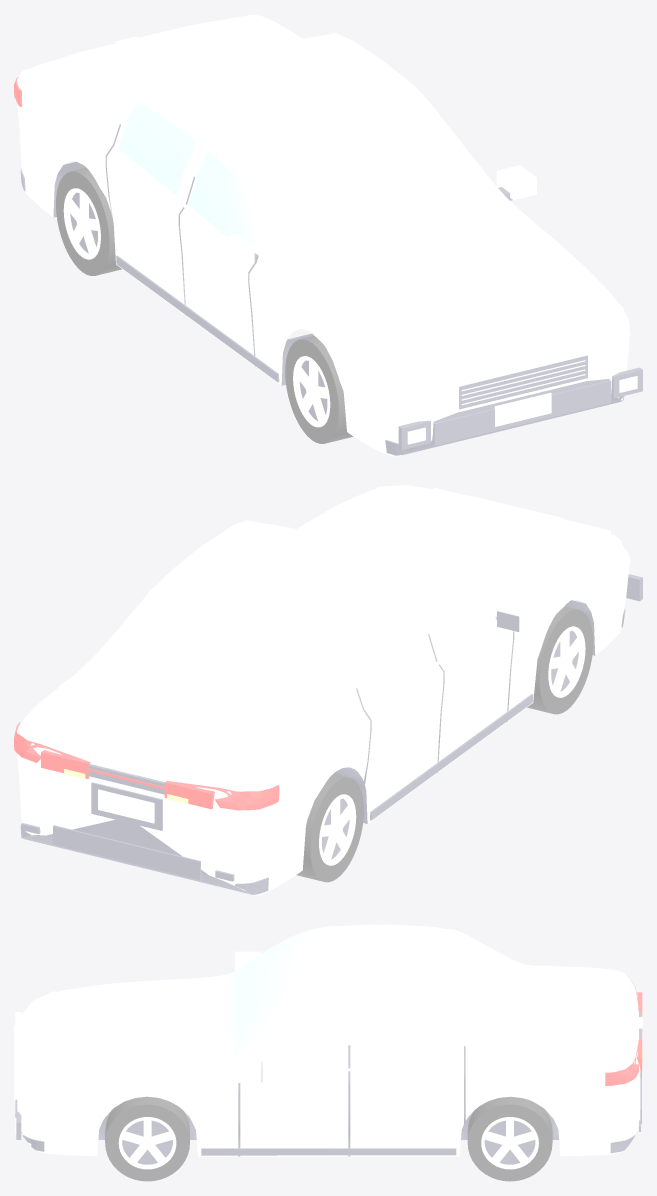
The model's file is cerato.glb.
The picture shows the model from 3 angles, top to bottom: view 1: azimuth 30°, elevation 25°; view 2: azimuth 150°, elevation 25°; view 3: azimuth 270°, elevation 25°; orthographic projection. The views are drawn at different scales.
Parts seen in each view (by area): view 1: steel-grey-paint, tinted-glass, black-trim, tyre, alloy-wheel, chrome, headlamp, number-plate, drl; view 2: steel-grey-paint, tinted-glass, black-trim, tyre, tail-lamp, alloy-wheel, number-plate, chrome; view 3: steel-grey-paint, tinted-glass, tyre, black-trim, alloy-wheel, chrome, headlamp, tail-lamp.
Boxes of the visible parts, box(x1,y1,x2,y2) form: steel-grey-paint: box(17, 14, 629, 456); tinted-glass: box(118, 100, 507, 258); black-trim: box(20, 124, 642, 455); tyre: box(56, 167, 353, 443); alloy-wheel: box(63, 188, 330, 427); chrome: box(78, 36, 591, 412); headlamp: box(367, 303, 630, 399); number-plate: box(494, 392, 551, 426); drl: box(376, 302, 622, 378); steel-grey-paint: box(17, 487, 628, 895); tinted-glass: box(86, 520, 505, 729); black-trim: box(20, 574, 642, 894); tyre: box(296, 606, 593, 882); tail-lamp: box(14, 722, 279, 810); alloy-wheel: box(319, 626, 585, 865); number-plate: box(98, 789, 154, 823); chrome: box(115, 624, 571, 834); steel-grey-paint: box(17, 924, 640, 1156); tinted-glass: box(229, 930, 530, 1072); tyre: box(105, 1096, 552, 1181); black-trim: box(15, 1011, 641, 1164); alloy-wheel: box(118, 1117, 538, 1169); chrome: box(14, 1017, 642, 1147); headlamp: box(15, 992, 57, 1105); tail-lamp: box(605, 981, 642, 1086).
Bounding box in the file's own units: 2.08 × 1.46 × 4.68.
